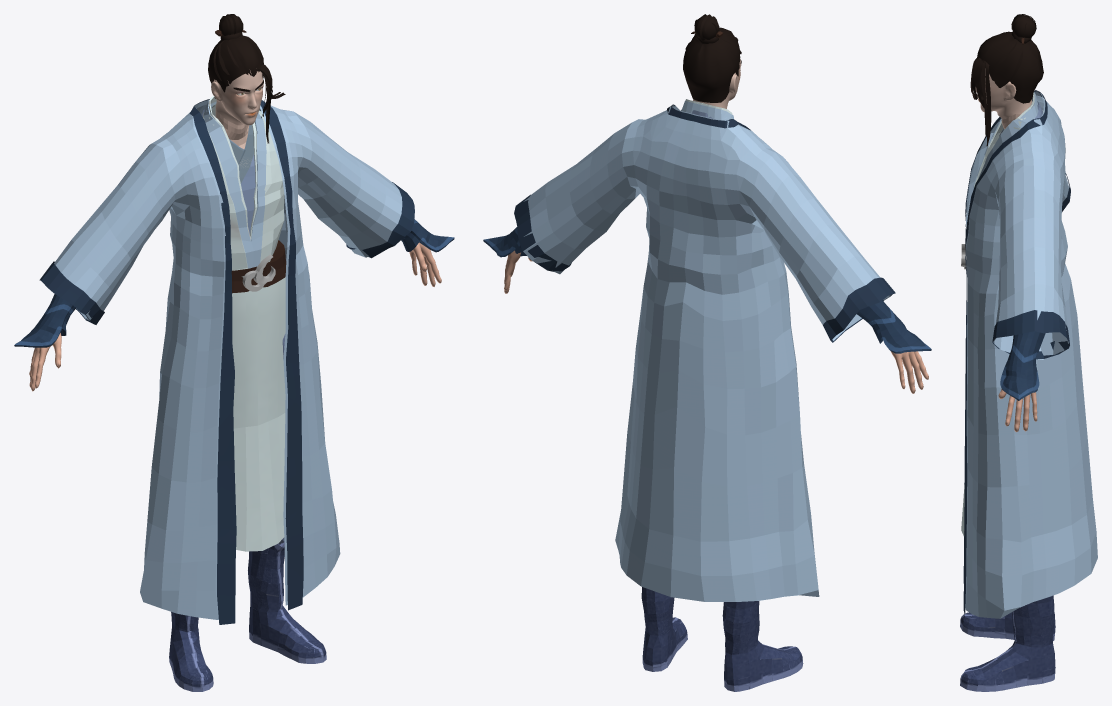
The model's file is nan.fbx.
The picture shows the model from 3 angles, left to right: view 1: azimuth 30°, elevation 25°; view 2: azimuth 150°, elevation 25°; view 3: azimuth 270°, elevation 25°; orthographic projection.
Visible parts, largest first — view 1: pasted__pasted__polySurface83, _polySurface3, pasted__pasted__polySurface86, pasted__pasted__pasted__Face03, pasted__pasted__polySurface1, pasted__pasted__polySurface85; view 2: pasted__pasted__polySurface83, _polySurface3, pasted__pasted__polySurface86, pasted__pasted__polySurface1; view 3: pasted__pasted__polySurface83, _polySurface3, pasted__pasted__polySurface86, pasted__pasted__polySurface85, pasted__pasted__pasted__Face03.
Boxes of the visible parts, x1,y1,x2,y2 form: pasted__pasted__polySurface83: (54,100,402,619); _polySurface3: (29,14,441,691); pasted__pasted__polySurface86: (39,99,414,624); pasted__pasted__pasted__Face03: (211,70,263,149); pasted__pasted__polySurface1: (14,294,75,347); pasted__pasted__polySurface85: (401,219,454,252); pasted__pasted__polySurface83: (523,105,890,601); _polySurface3: (504,14,928,691); pasted__pasted__polySurface86: (514,104,895,342); pasted__pasted__polySurface1: (857,300,931,353); pasted__pasted__polySurface83: (965,91,1097,618); _polySurface3: (960,14,1055,691); pasted__pasted__polySurface86: (963,90,1070,614); pasted__pasted__polySurface85: (1000,331,1045,400); pasted__pasted__pasted__Face03: (973,68,1032,129).
Bounding box in the file's own units: 11.12 × 15.49 × 3.01.
